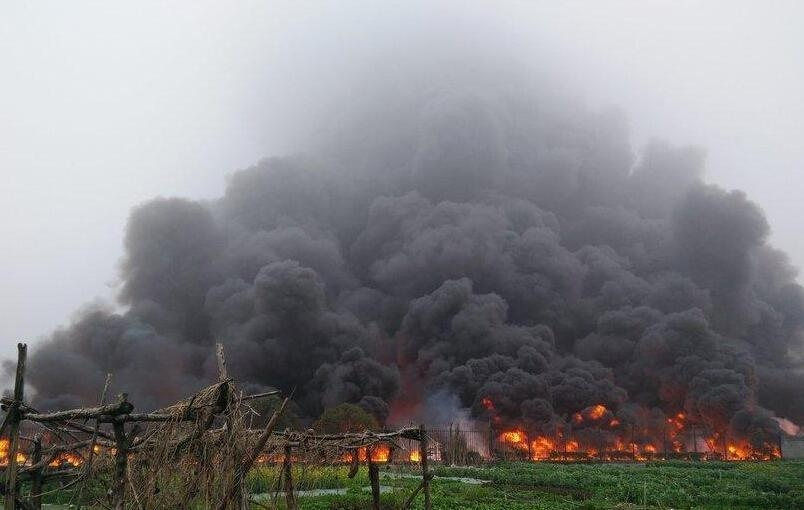fire: (490, 401, 790, 465), (49, 451, 81, 468), (367, 443, 389, 462), (405, 445, 421, 462)
